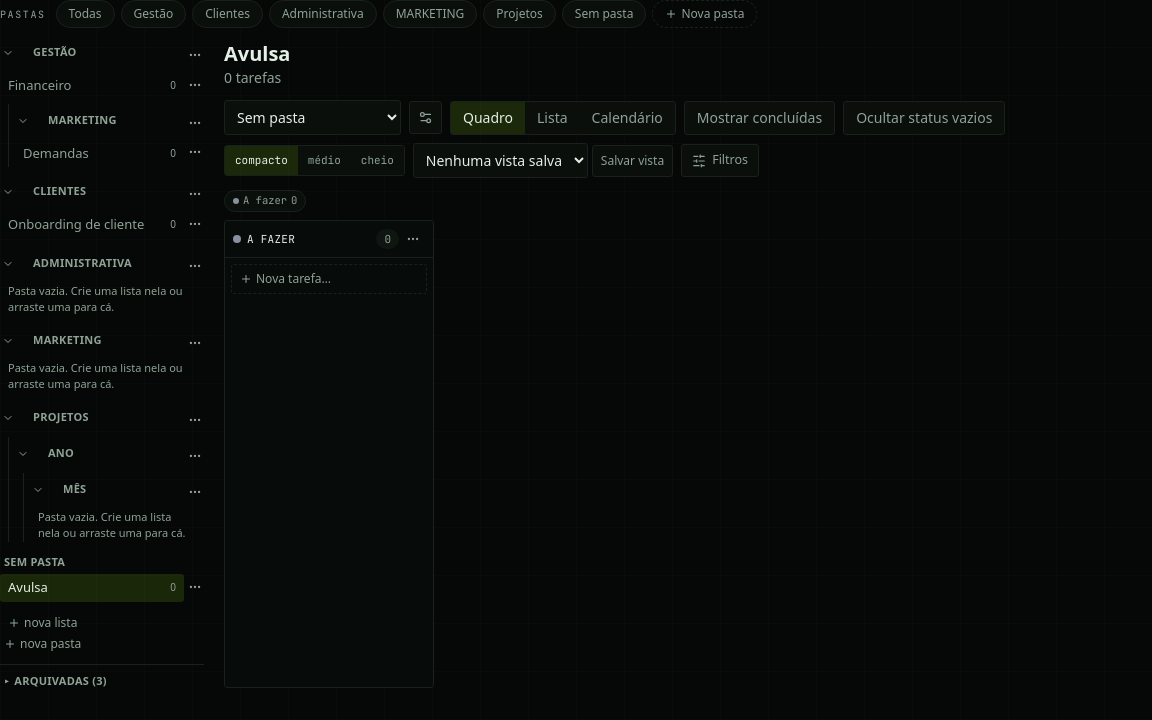
Test: M3: a seção Arquivadas › vem recolhida com a contagem; aberta, mostra data, quem arquivou, tarefas e para onde volta
The width and height of the screenshot is (1152, 720).
Click the button with test id "trabalho-arquivadas-alternar": (102, 681) [0,672,204,689]
(page scrolled)
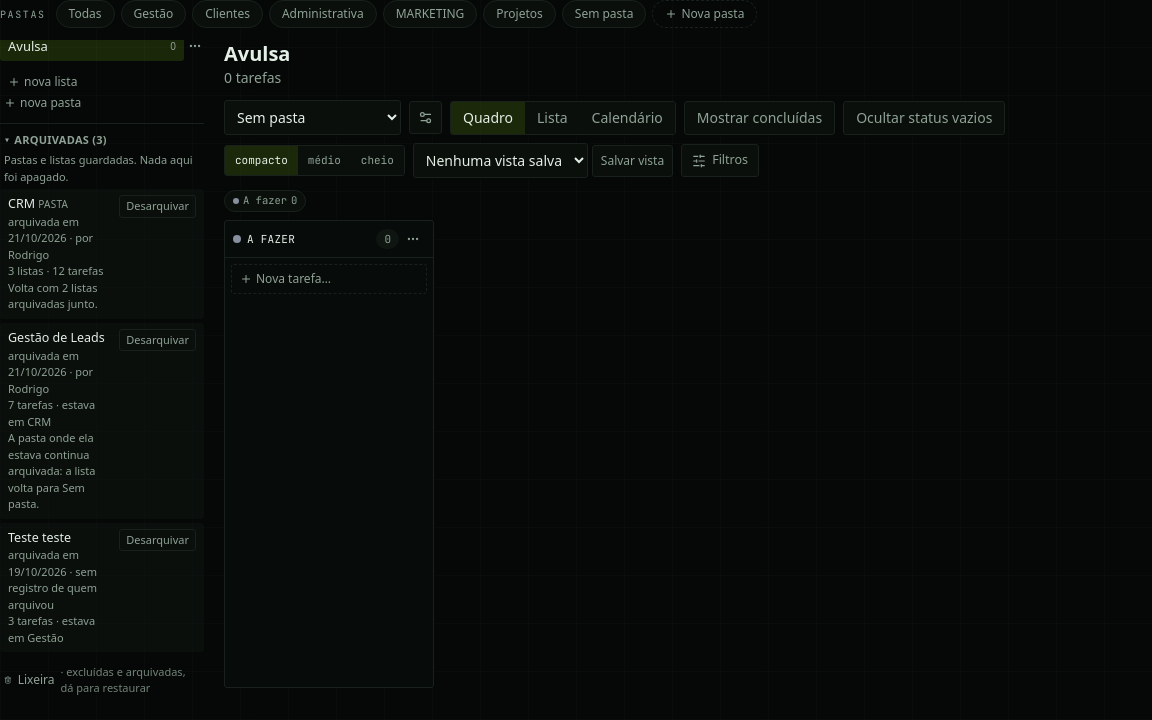
Result: the button with test id "trabalho-arquivadas-alternar" is expanded at [0,132,204,148]
Result: the list item with test id "trabalho-arquivada-pasta-p-crm" shows "CRM" at [8,195,35,212]
Result: the list item with test id "trabalho-arquivada-pasta-p-crm" shows "arquivada em 21/10/2026 · por Rodrigo" at [8,214,93,262]
